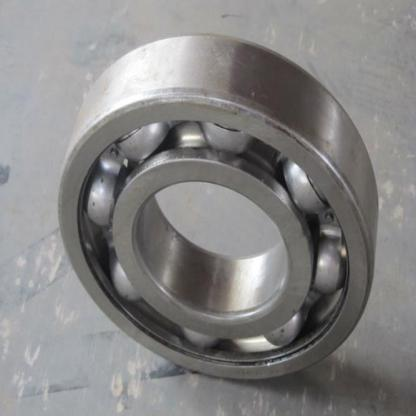FOD: (50, 30, 382, 386)
